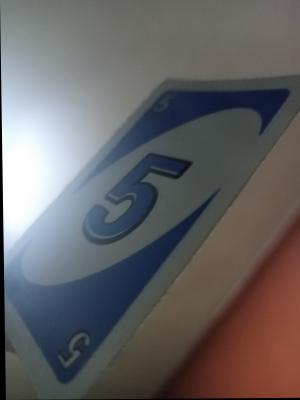blue: (89, 128, 187, 269)
num_5: (44, 318, 96, 372)
